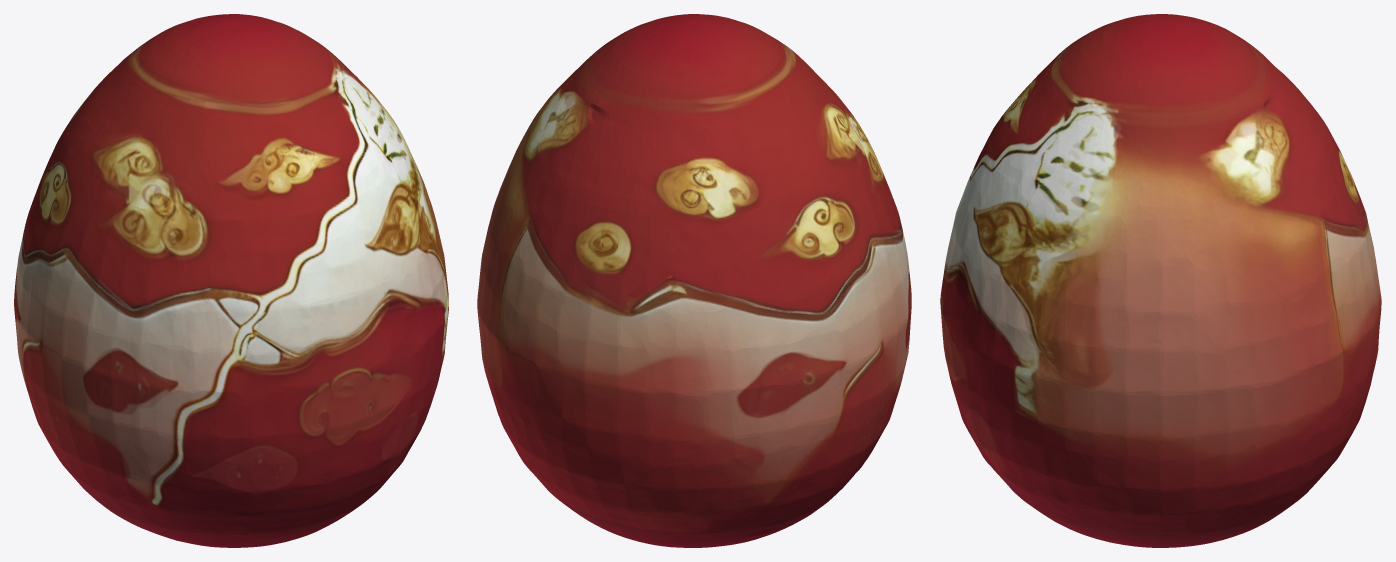
File: vessel-02.glb
3 renders of one model, left to right at view 1: azimuth 30°, elevation 25°; view 2: azimuth 150°, elevation 25°; view 3: azimuth 270°, elevation 25°, orthographic.
Visible parts, largest first — view 1: tmpja0ino9l.ply; view 2: tmpja0ino9l.ply; view 3: tmpja0ino9l.ply.
Boxes of the visible parts, x1,y1,x2,y2 form: tmpja0ino9l.ply: (14,14,448,547); tmpja0ino9l.ply: (477,14,911,547); tmpja0ino9l.ply: (940,14,1381,547).
Bounding box in the file's own units: 1.61 × 1.99 × 1.62.
Materials: 1 (1 with a texture image).
